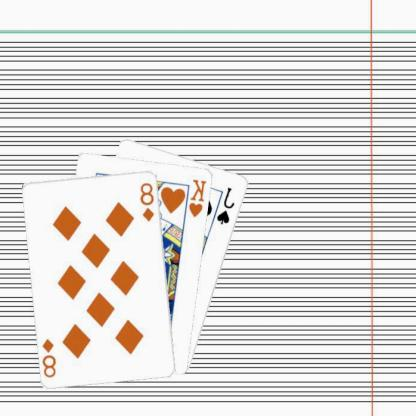8D: (140, 179, 158, 223), (42, 336, 60, 378)
JS: (216, 184, 238, 226)
KH: (188, 177, 210, 218)
